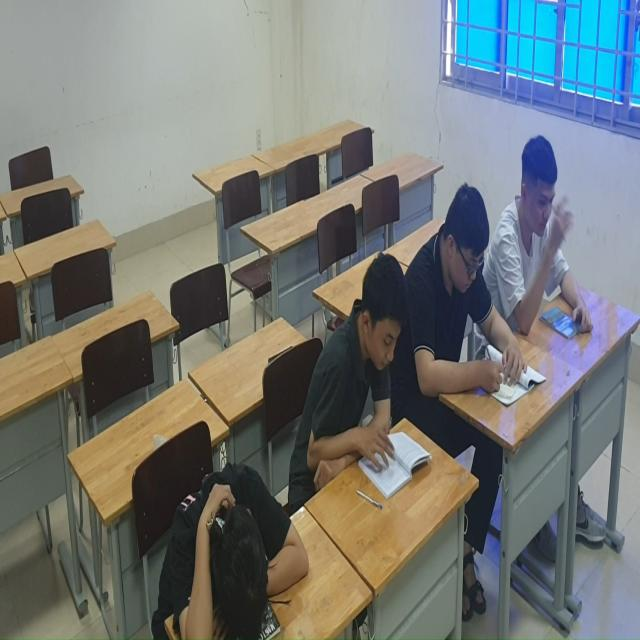raise_hand: (500, 132, 598, 348)
read: (290, 249, 433, 497), (417, 184, 529, 431)
sleep: (130, 449, 310, 640)
